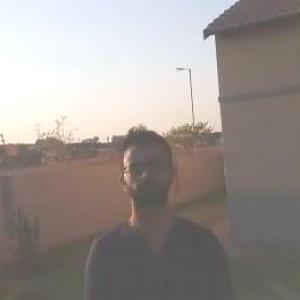follow: (80, 116, 238, 299)
